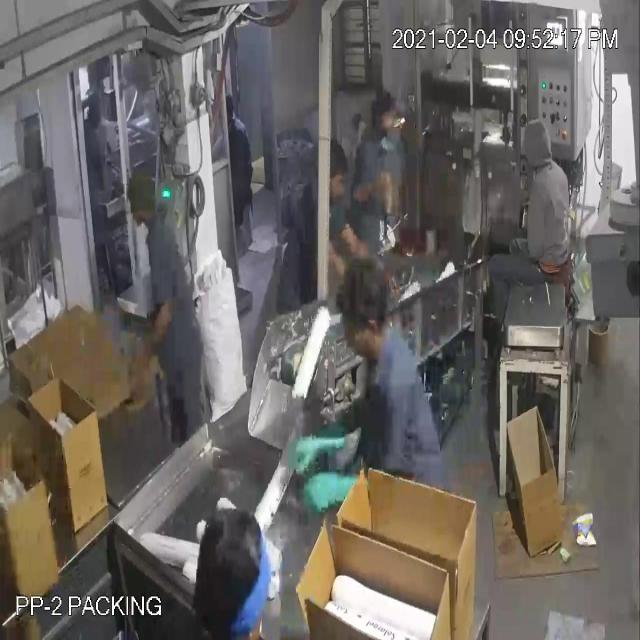gloves: (281, 400, 354, 481), (300, 467, 370, 525)
no-gloves: (121, 292, 189, 409), (315, 221, 351, 295), (339, 212, 371, 270), (349, 170, 393, 209)
